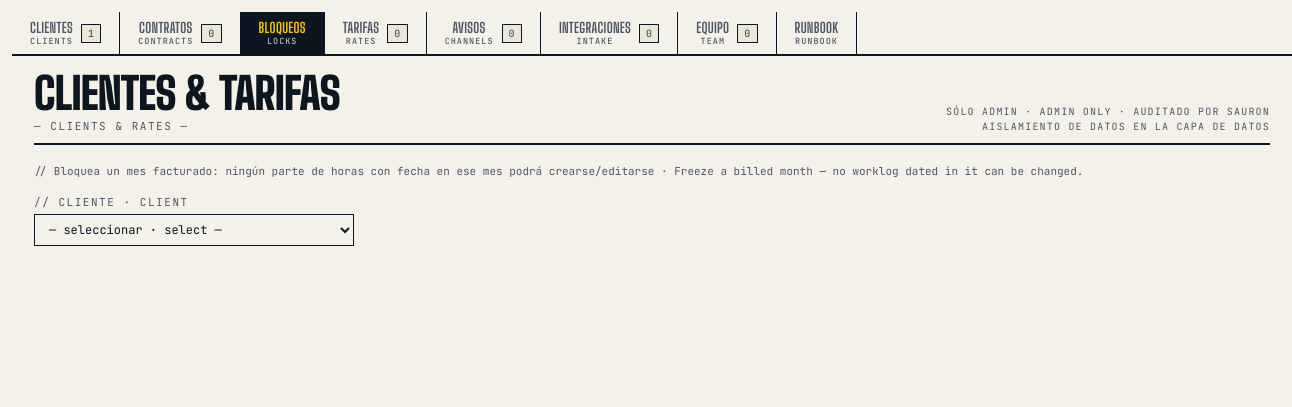
Scenario: SettingsPage — coverage top-up › shows the no-locked-months empty state once a client with no locks is picked
This screenshot has width=1292, height=407.
Select "Acme Corp" in the dropdown labelled "// cliente · client": (194, 230) [34,214,354,246]
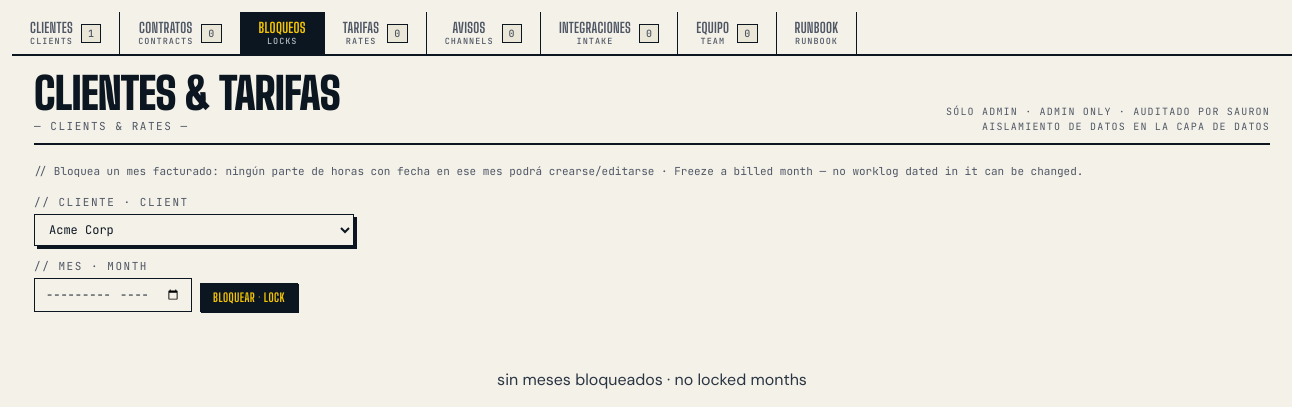
Now the text "sin meses bloqueados · no locked months" is shown, box [497,369,807,390]
